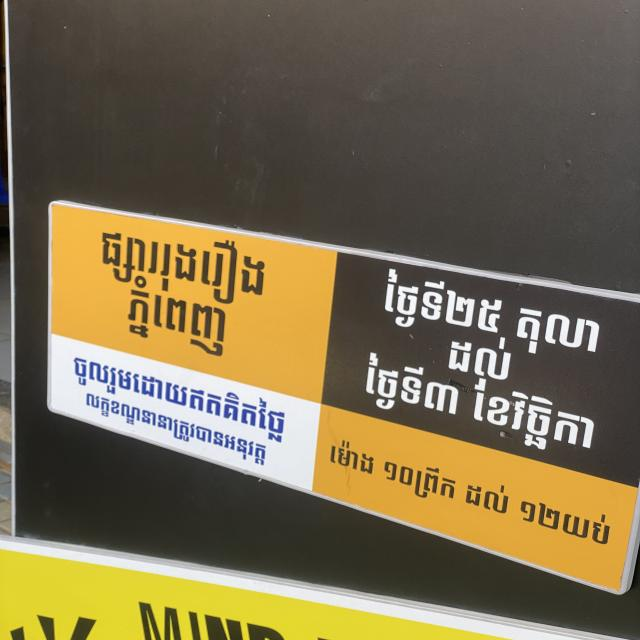Yolov11kh: (323, 435, 618, 549), (349, 348, 606, 464), (372, 262, 620, 365), (69, 351, 301, 451), (88, 218, 284, 314), (79, 390, 270, 469), (115, 272, 251, 370), (436, 326, 527, 384)
